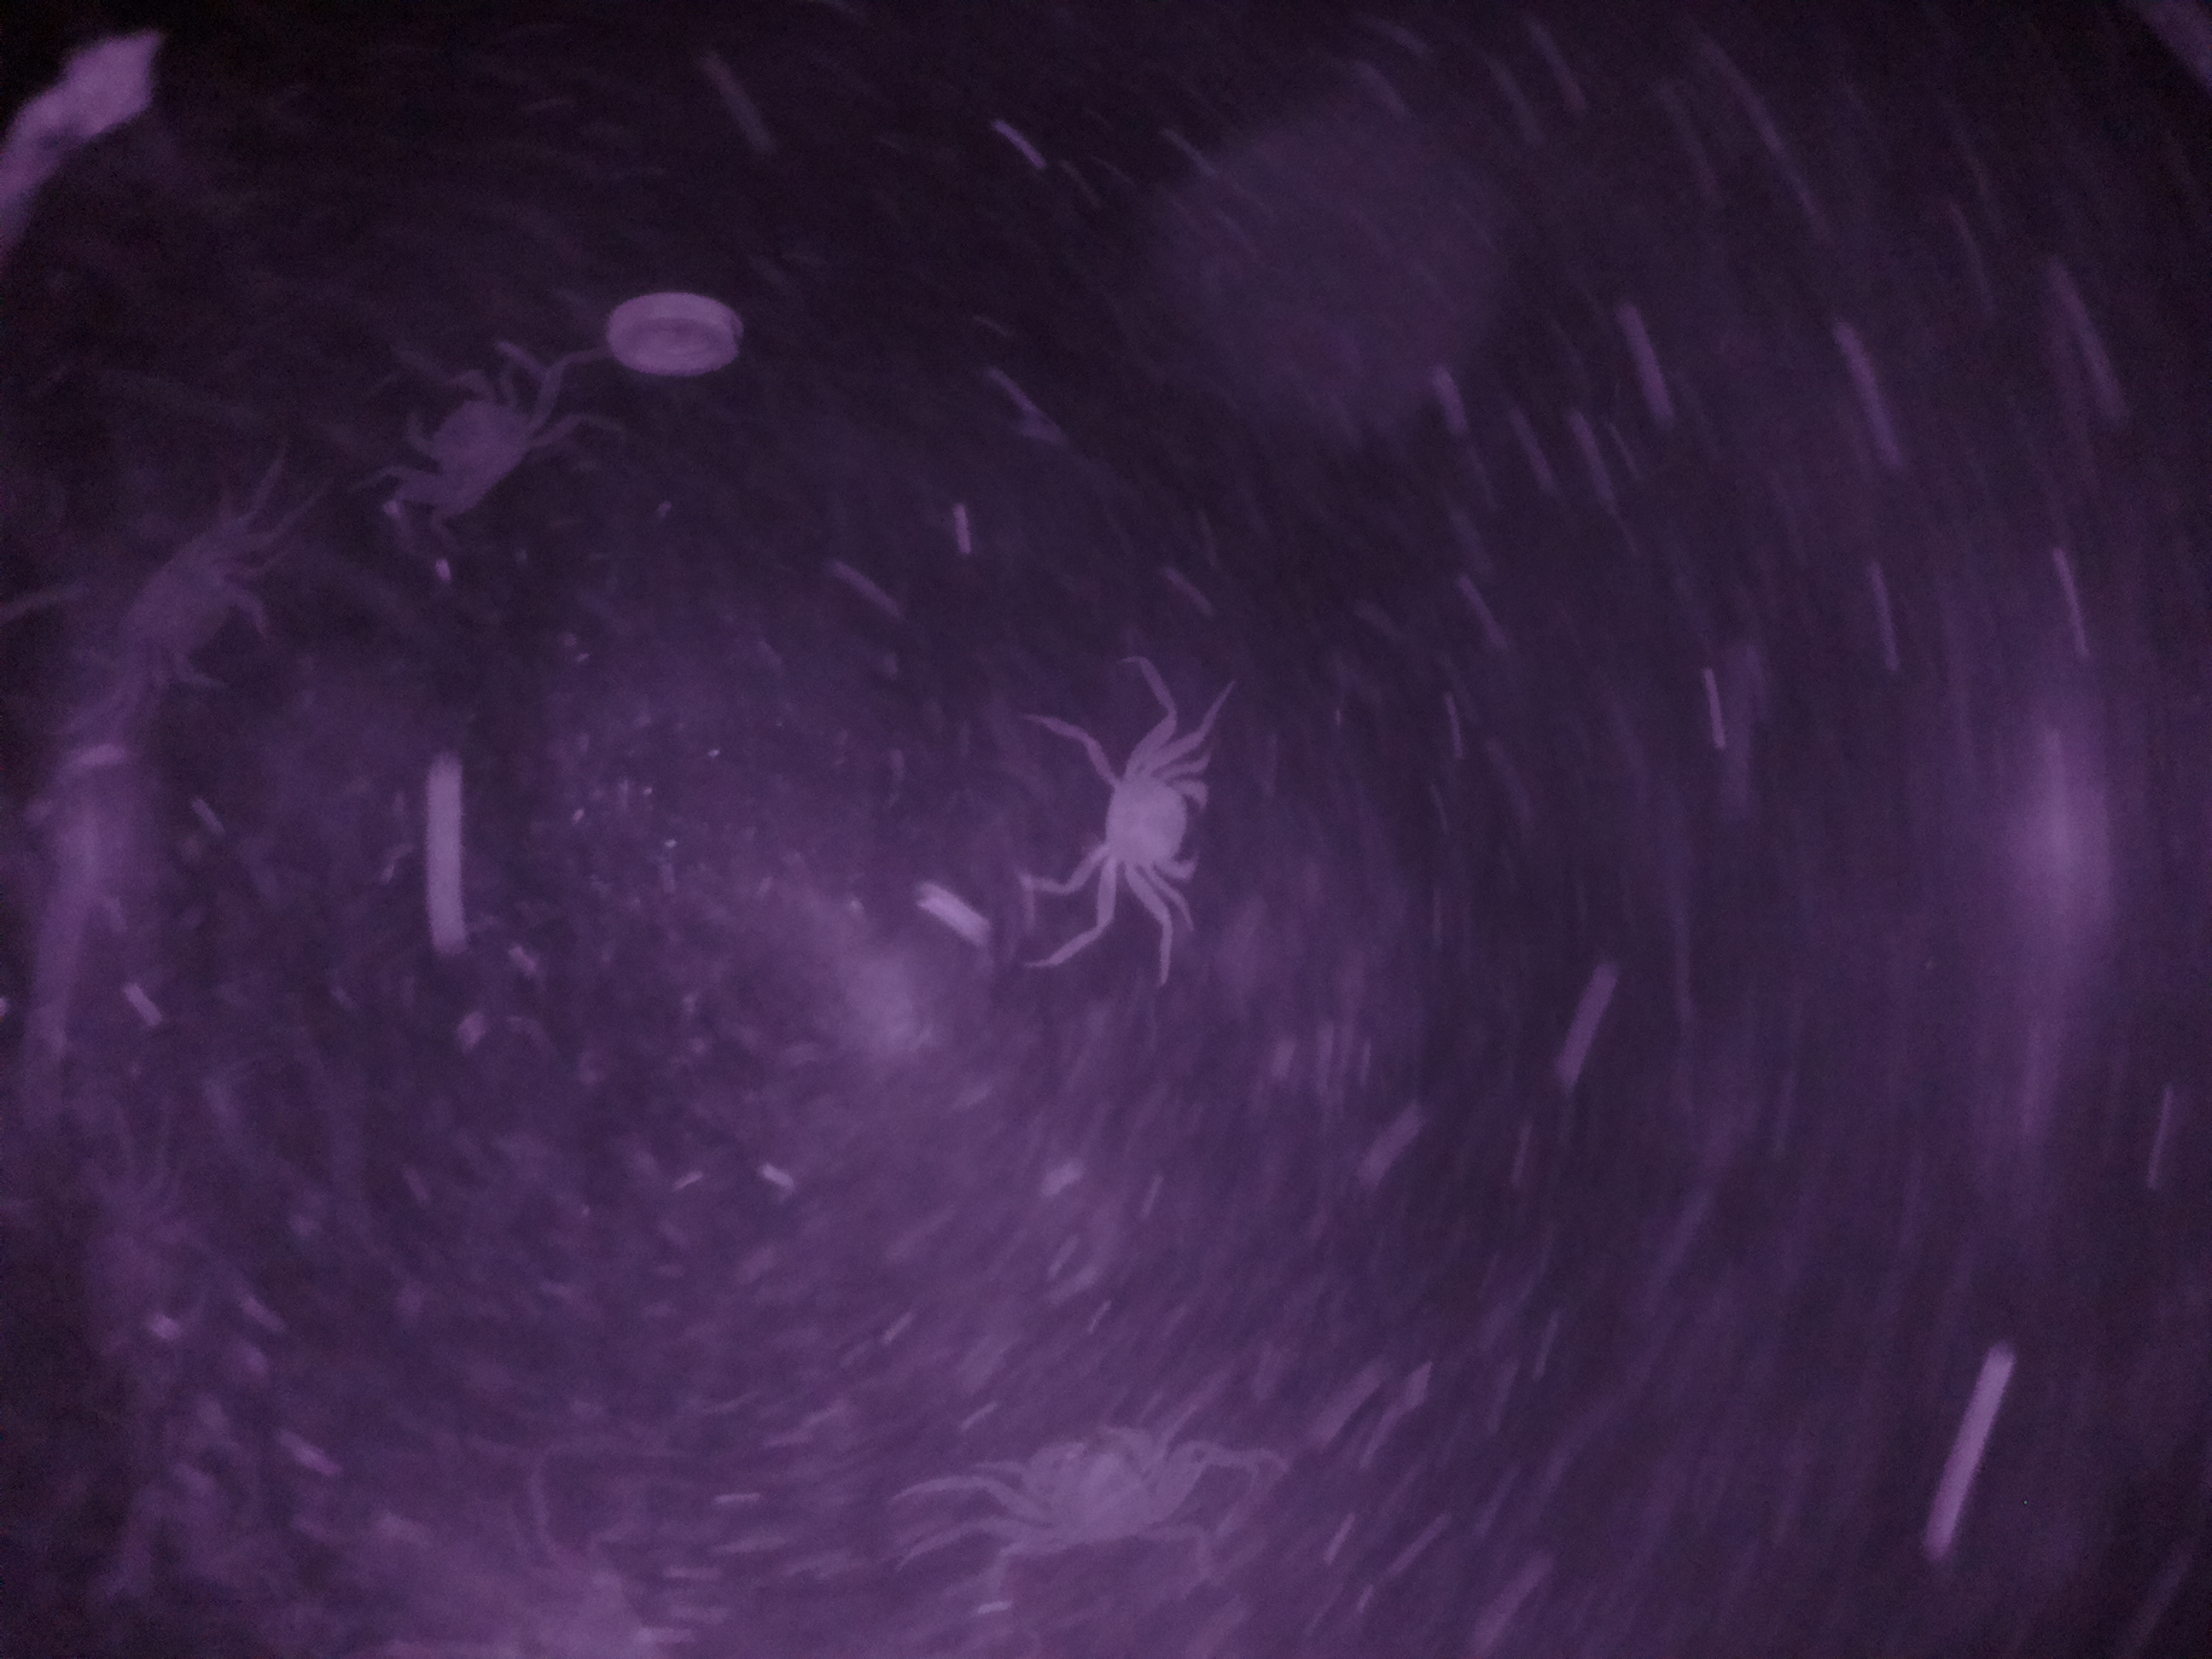Crab: (1036, 734, 1238, 904)
